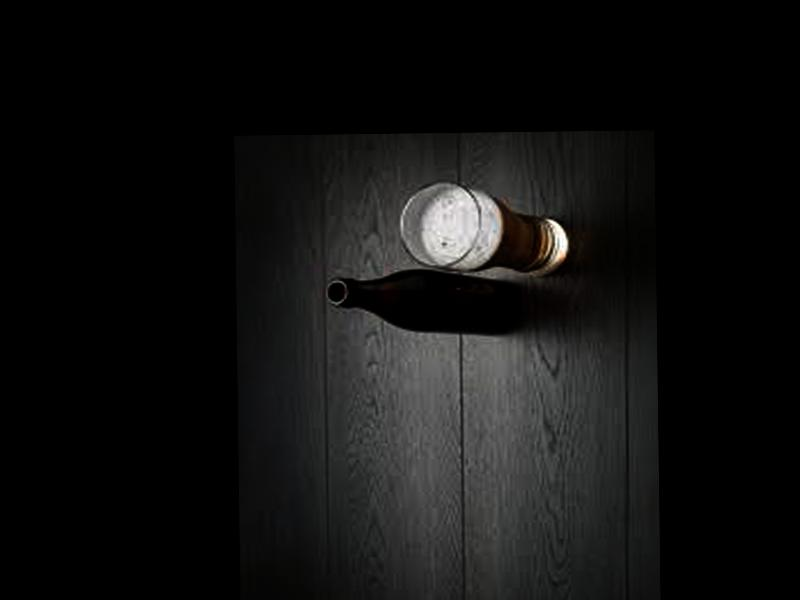Beer: (323, 266, 526, 338)
